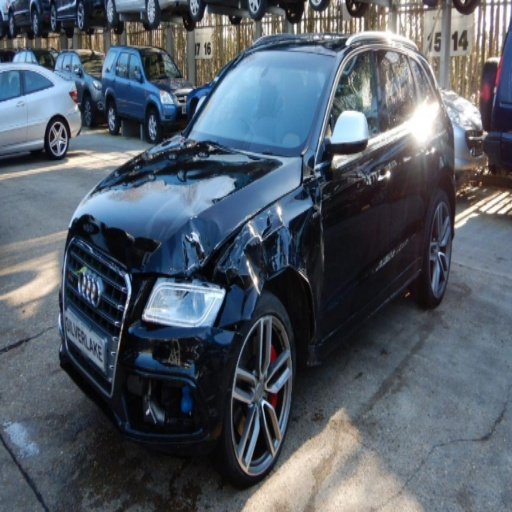dent: (211, 181, 323, 341), (194, 327, 242, 430), (171, 215, 222, 277)
scratch: (232, 209, 259, 231), (170, 263, 194, 271), (199, 256, 208, 267), (214, 241, 222, 249)
